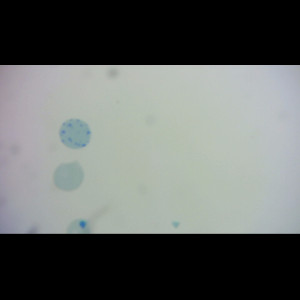aggregate reticulocyte: (58, 117, 93, 150)
erythrocyte: (52, 158, 84, 193)
